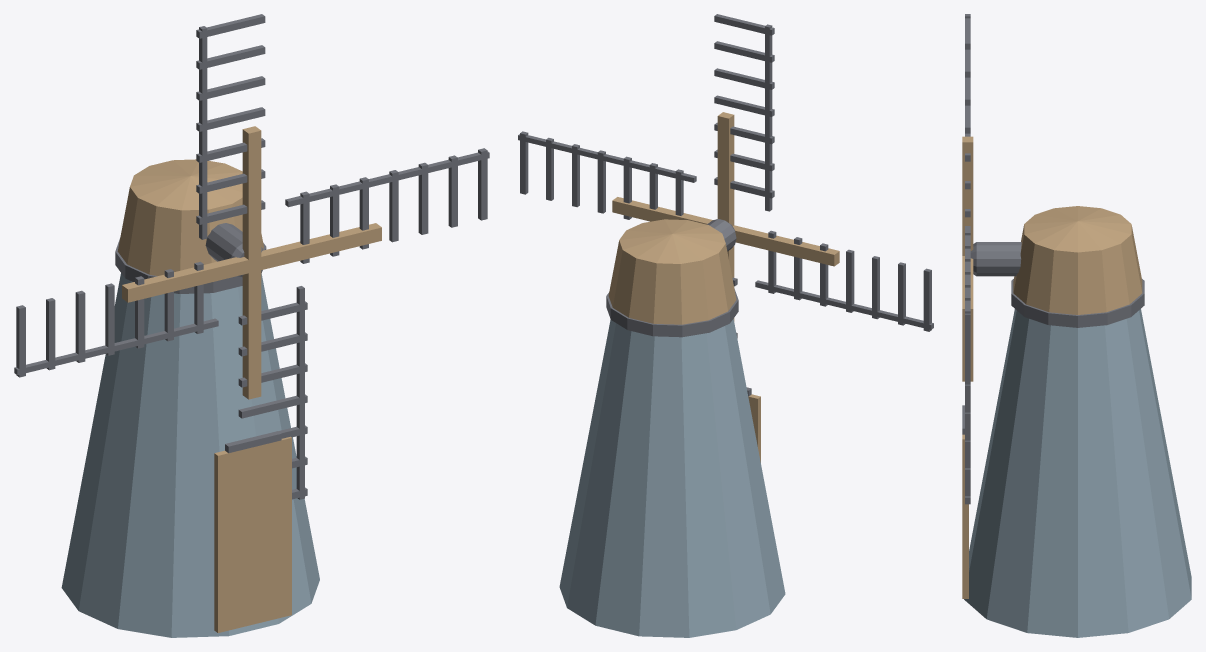
The model's file is animated-mechanisms-kit-windmill-sail-77f6f3d1__24622.glb.
3 views of the same model, side by side, from view 1: azimuth 30°, elevation 25°; view 2: azimuth 150°, elevation 25°; view 3: azimuth 270°, elevation 25° (orthographic). The views are drawn at different scales.
Parts seen in each view (by area): view 1: windmill-sail, sails/iron, sails/timber; view 2: windmill-sail, sails/iron, sails/timber; view 3: windmill-sail, sails/iron, sails/timber.
Part boxes in pixels (x1,y1,x2,y2): windmill-sail: (61,159,319,637); sails/iron: (14,14,489,499); sails/timber: (122,126,381,399); windmill-sail: (559,219,785,637); sails/iron: (518,14,933,338); sails/timber: (612,112,839,321); windmill-sail: (962,206,1191,637); sails/iron: (965,14,970,504); sails/timber: (962,136,973,381).
Size of the model in its own units: 4.46 by 5.53 by 2.08.
